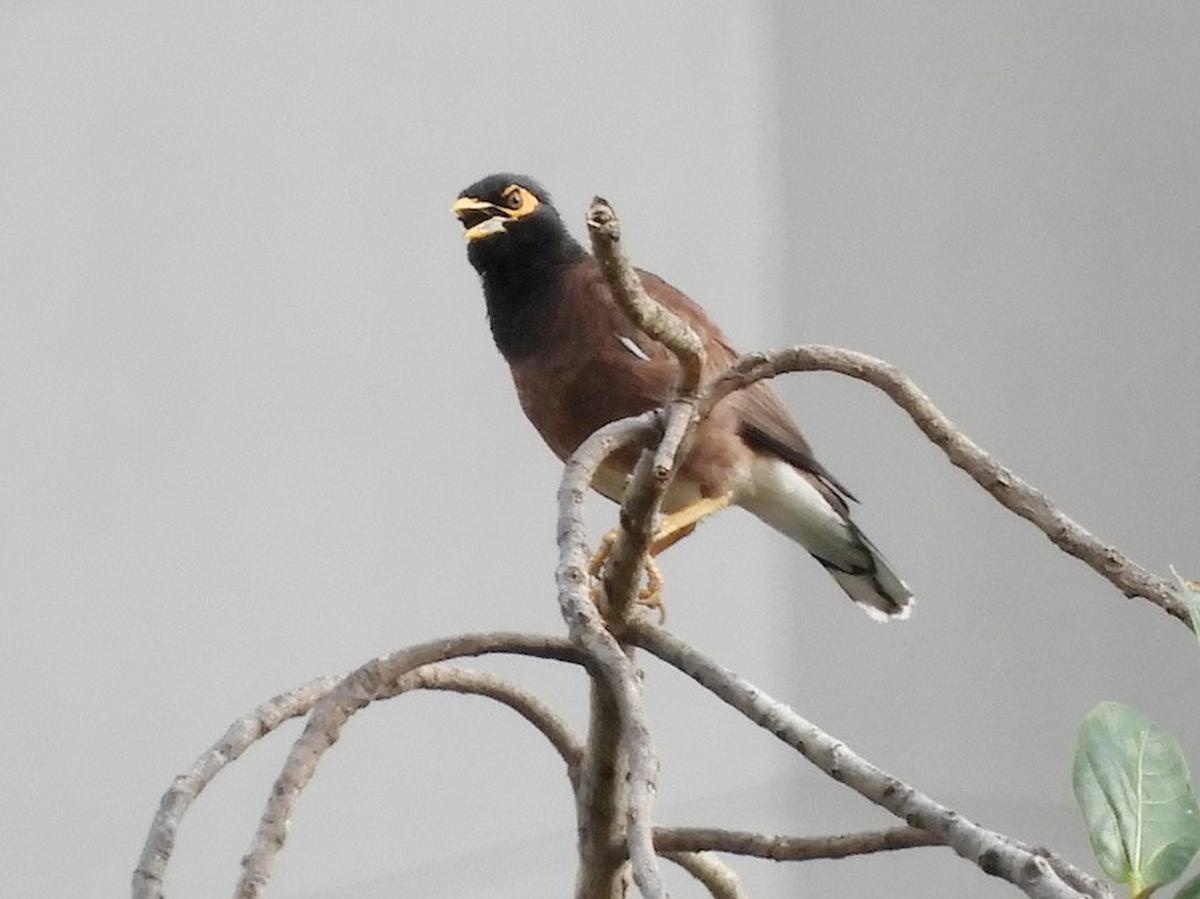myna: (426, 145, 890, 656)
